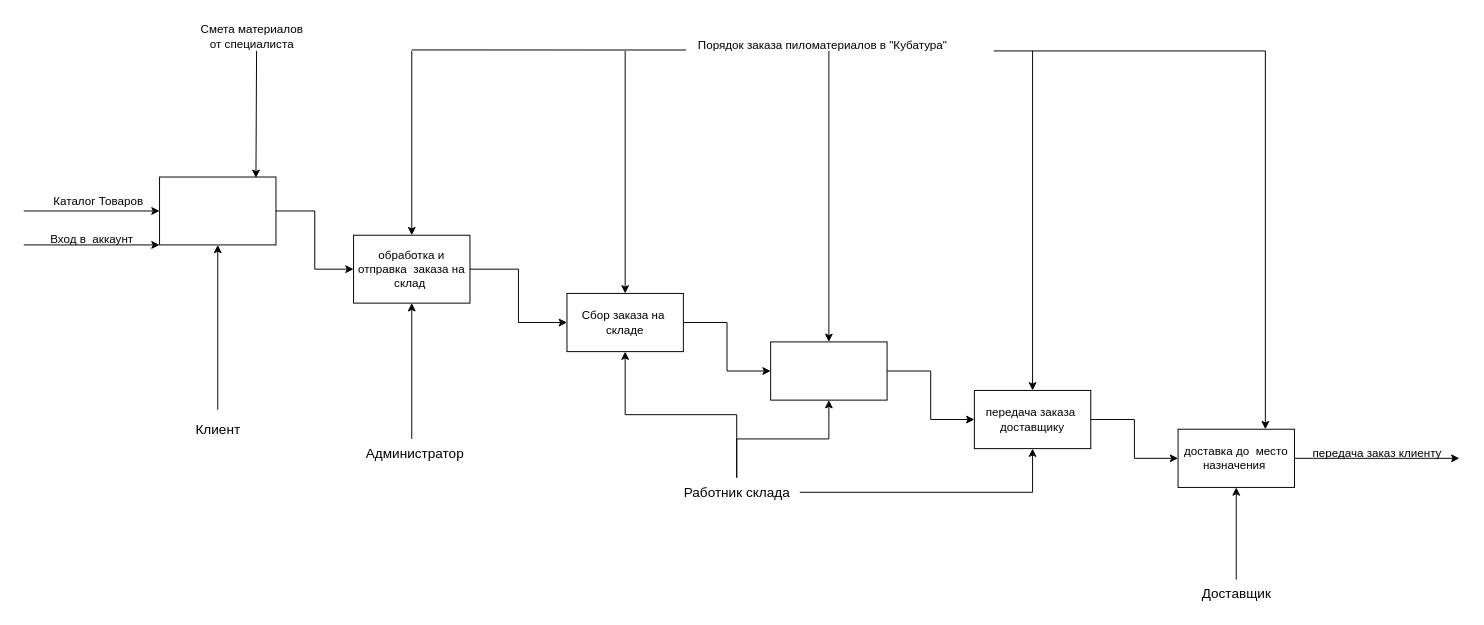
Image size: 1484x625. Some labels were removed from this diagram. The shapes that lost their labels are listed below. From the top down, each one's box as (x1, y1, x2, y2) in pixels, then its label:
(159, 176, 276, 245): Оформление заказа
(770, 341, 887, 400): Отправка на сортировочный центр
